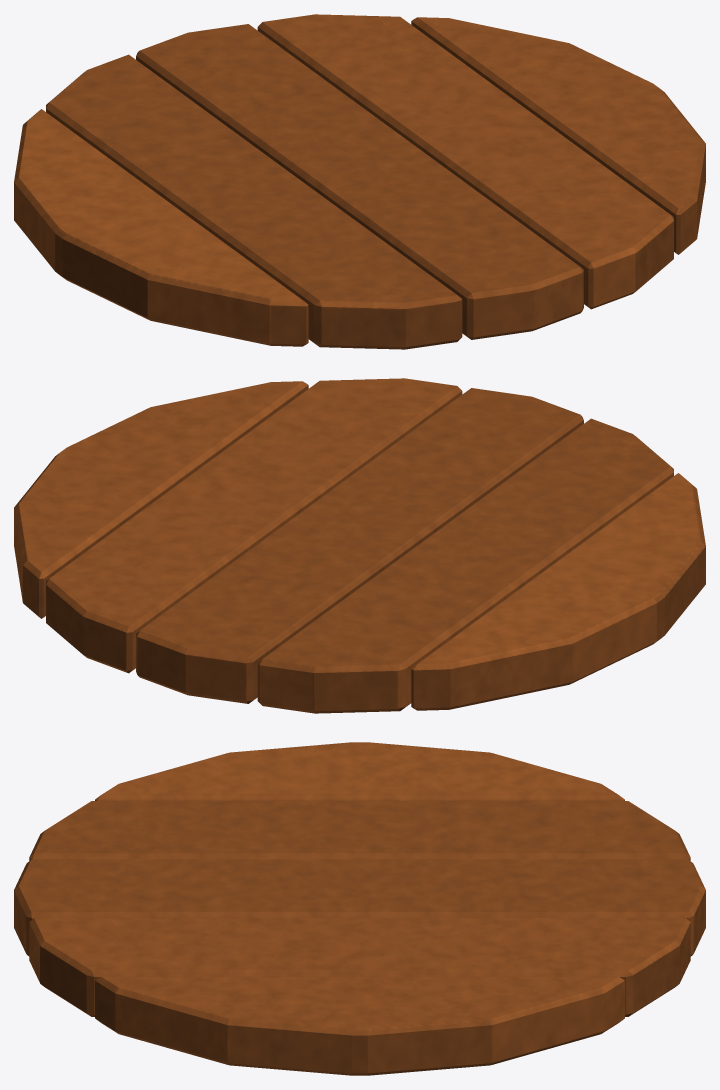
The model's file is TX_D08_Barrel_Lid.fbx.
The picture shows the model from 3 angles, top to bottom: view 1: azimuth 30°, elevation 25°; view 2: azimuth 150°, elevation 25°; view 3: azimuth 270°, elevation 25°; orthographic projection.
Visible parts, largest first — view 1: TX_D08_Barrel_Lid; view 2: TX_D08_Barrel_Lid; view 3: TX_D08_Barrel_Lid.
Boxes of the visible parts, left/top/right/bottom form: TX_D08_Barrel_Lid: left=14, top=14, right=705, bottom=349; TX_D08_Barrel_Lid: left=14, top=378, right=705, bottom=713; TX_D08_Barrel_Lid: left=14, top=742, right=705, bottom=1075.
Bounding box in the file's own units: 0.874 × 0.065 × 0.878.
1 material, 1 textured.
